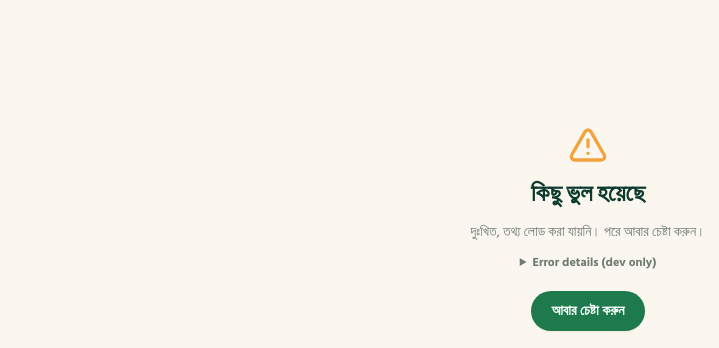
Test: ErrorBoundary › shows a friendly fallback when a child crashes, and recovers on retry
Expected: the heading "কিছু ভুল হয়েছে" is shown, 531,177 -> 645,209
Expected: the text "Recovered content" is not shown
Click the button "আবার চেষ্টা করুন" at (588, 311), box 532,291 -> 644,331
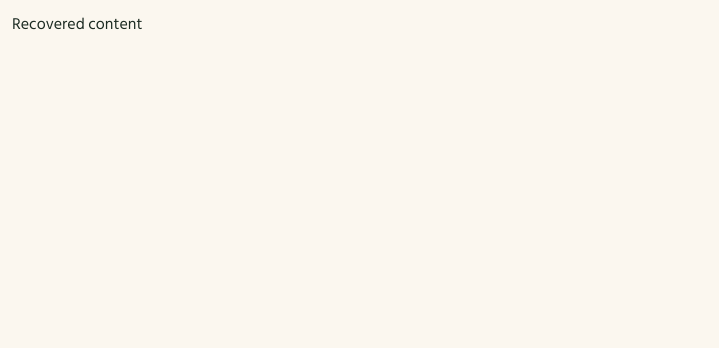
Expected: the text "Recovered content" is shown, 12,11 -> 142,37
Expected: the heading "কিছু ভুল হয়েছে" is gone
